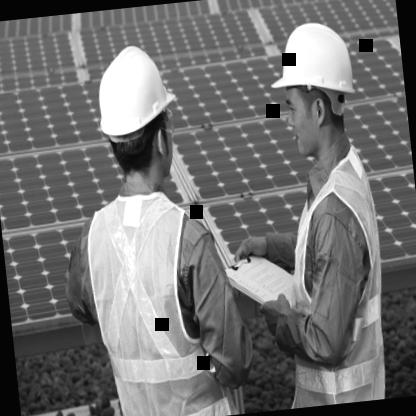helmet: (84, 29, 186, 195), (264, 6, 368, 168)
